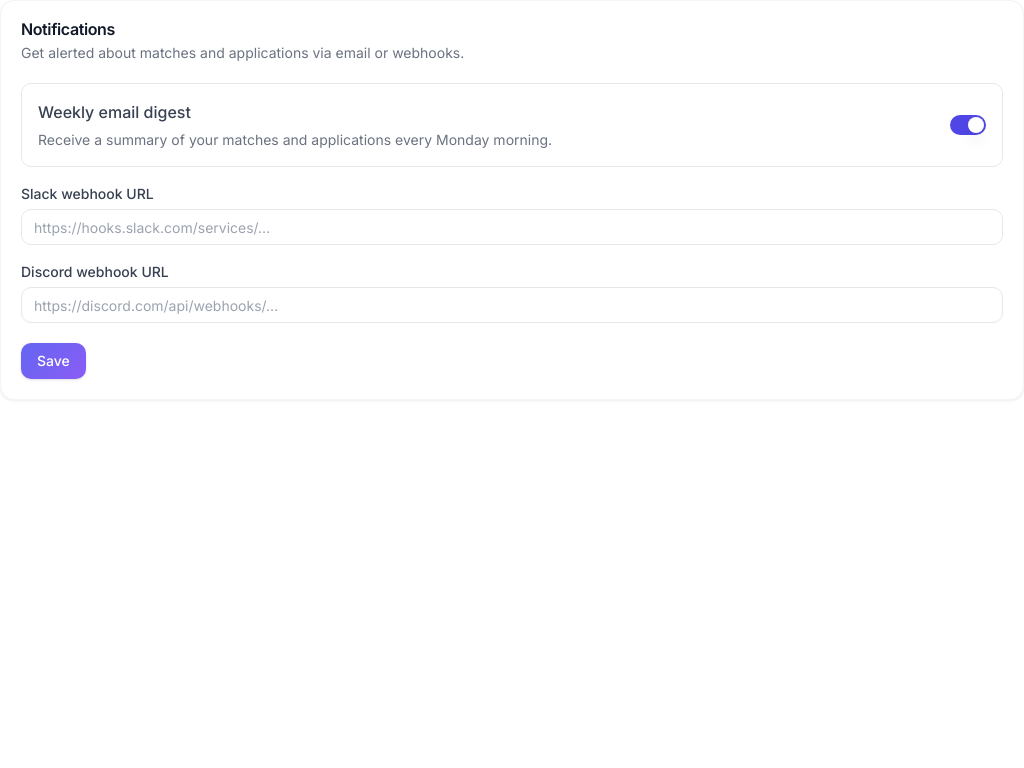
Test case: NotificationsForm › shows error for invalid Slack URL
In the field with placeholder "https://hooks.slack.com/services/…": (512, 227) 21,209 -> 1003,245, type "not-a-url"
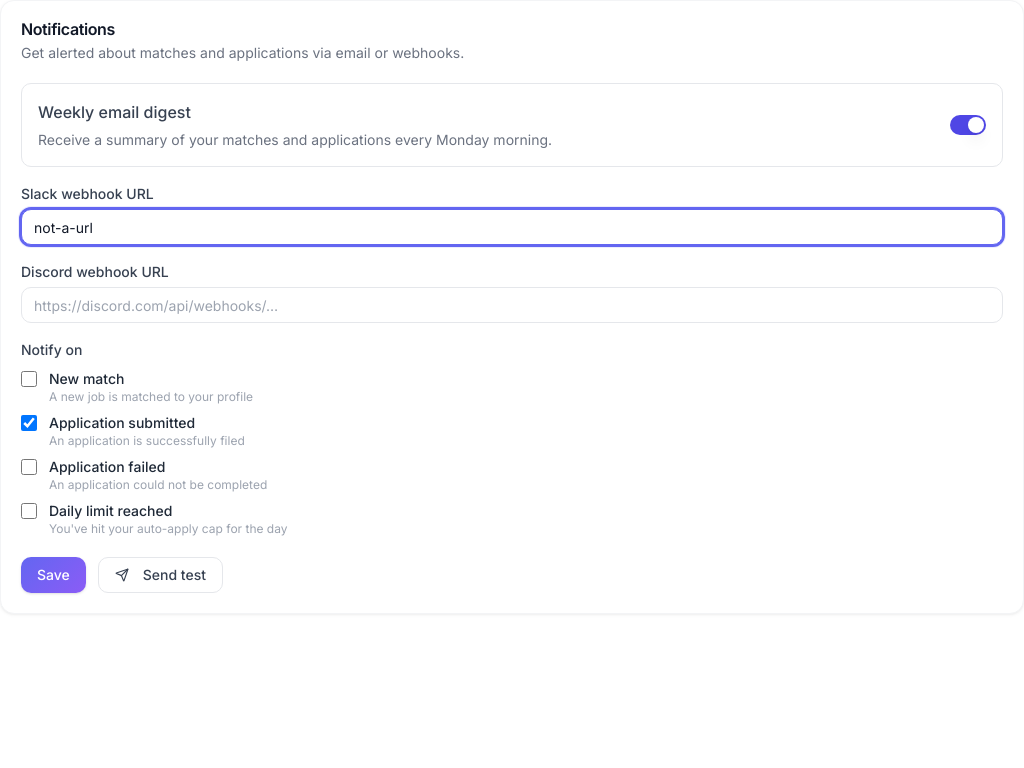
Click the button "Save": (53, 575) 21,557 -> 86,593
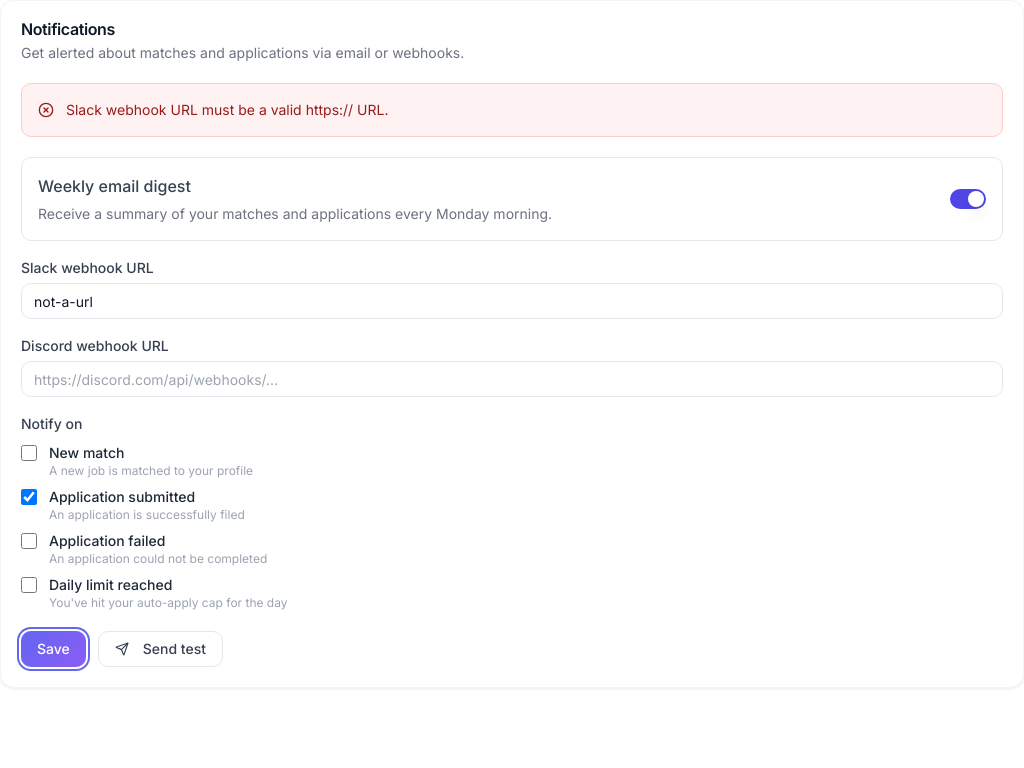
Expected: the text "Slack webhook URL must be a valid https:// URL." is shown, 66,101 -> 388,118
